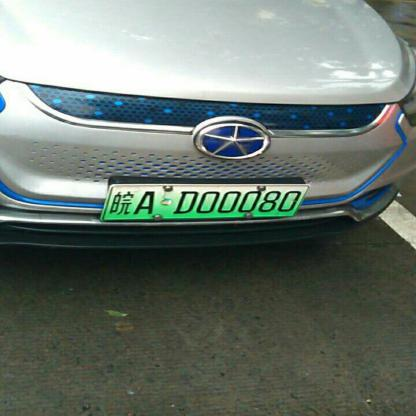lp: (102, 185, 309, 219)
